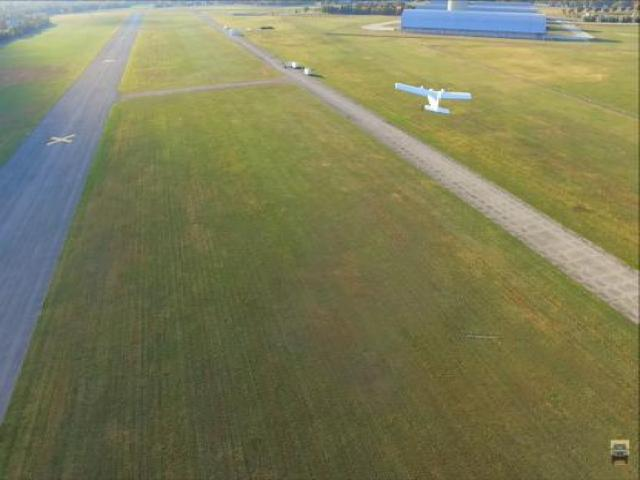uav: (394, 82, 472, 114)
